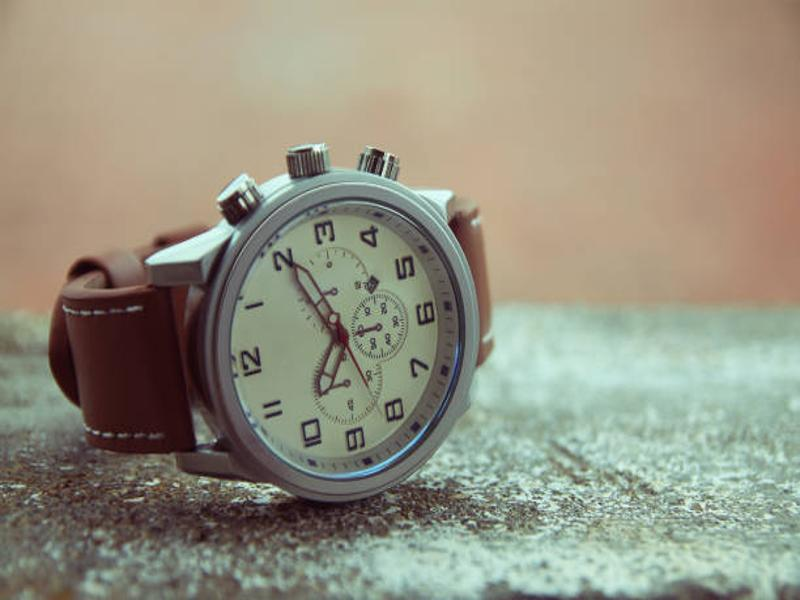watch: (37, 137, 498, 506)
